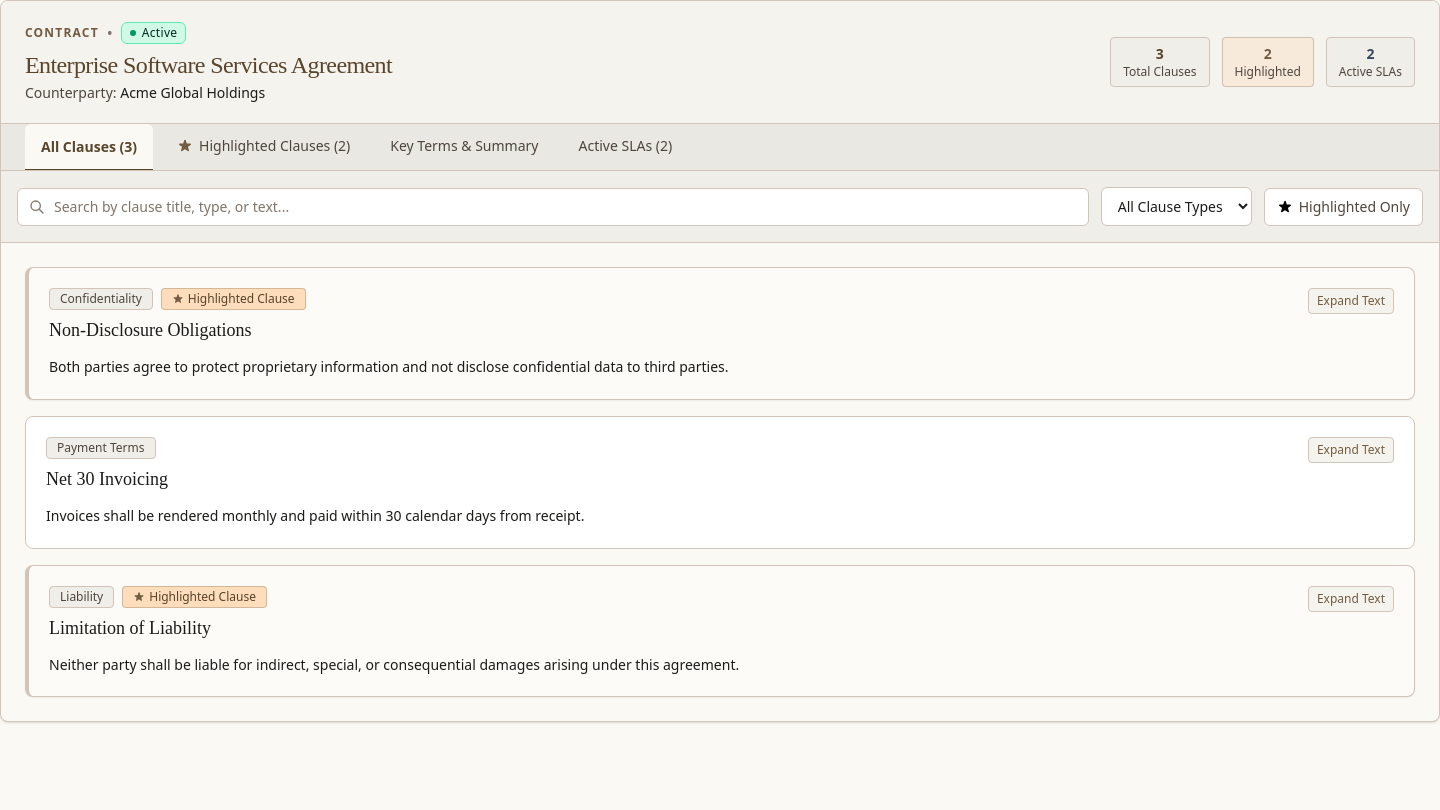
Test: ClauseViewer Component › toggles show highlighted only filter
What coordinates should you click on to do the following:
click the button with test id "toggle-highlighted-only"
I would click on:
 (1343, 206)
Its box is [1264,188,1423,226].
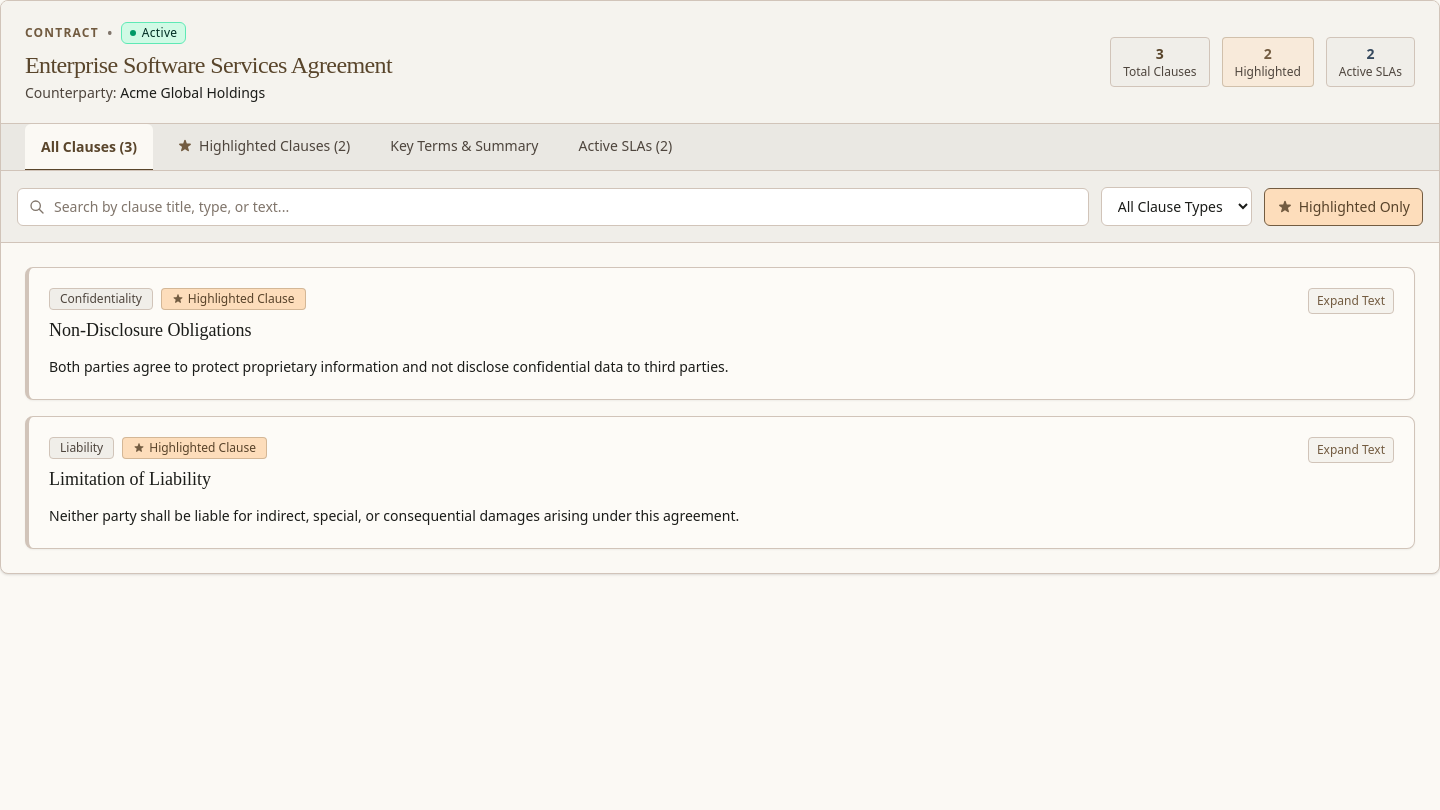
Expected: the heading "Non-Disclosure Obligations" is shown, [49,320,252,340]
Expected: the heading "Net 30 Invoicing" is gone
